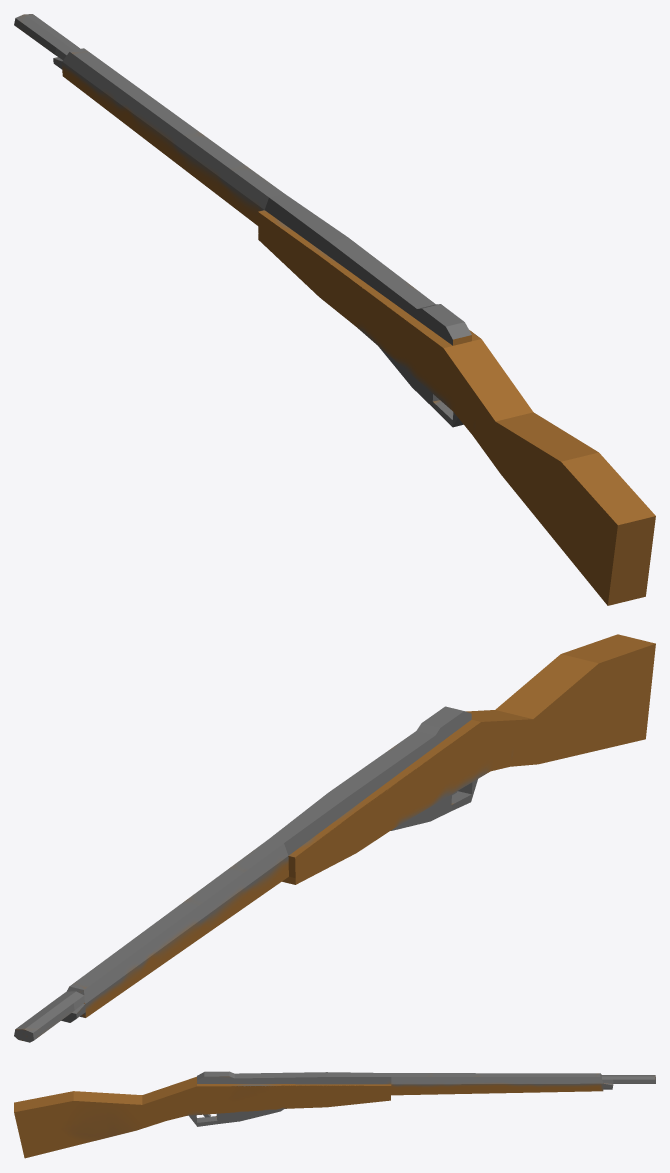
The model's file is Rifle.fbx.
3 views of the same model, one above another, from view 1: azimuth 30°, elevation 25°; view 2: azimuth 150°, elevation 25°; view 3: azimuth 270°, elevation 25° (orthographic). The views are drawn at different scales.
Visible parts, largest first — view 1: Rifle; view 2: Rifle; view 3: Rifle.
Boxes of the visible parts, <box> form: Rifle: <box>14,14,655,605</box>; Rifle: <box>14,634,655,1042</box>; Rifle: <box>14,1071,655,1158</box>.
Size of the model in its own units: 17.22 by 65.71 by 480.
1 material, 1 textured.
